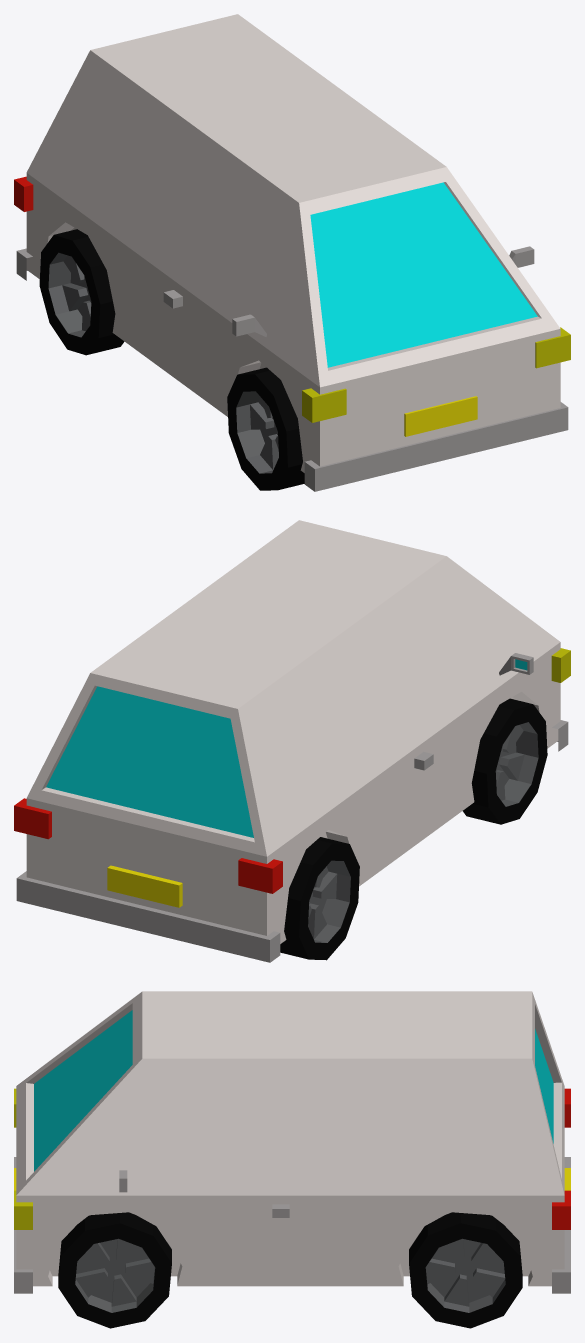
Rendered from Van.fbx.
The picture shows the model from 3 angles, top to bottom: view 1: azimuth 30°, elevation 25°; view 2: azimuth 150°, elevation 25°; view 3: azimuth 270°, elevation 25°; orthographic projection. The views are drawn at different scales.
Visible parts, largest first — view 1: Van, R_Back_Wheel, R_Front_Wheel; view 2: Van, R_Front_Wheel, R_Back_Wheel; view 3: Van, L_Front_Wheel, L_Back_Wheel.
Boxes of the visible parts, box(x1,y1,x2,y2) form: Van: box(14, 14, 570, 491); R_Back_Wheel: box(39, 229, 124, 355); R_Front_Wheel: box(227, 367, 304, 490); Van: box(14, 520, 570, 962); R_Front_Wheel: box(463, 698, 547, 824); R_Back_Wheel: box(280, 837, 359, 960); Van: box(14, 991, 570, 1293); L_Front_Wheel: box(58, 1212, 171, 1328); L_Back_Wheel: box(409, 1212, 522, 1328).
Size of the model in its own units: 3 by 2.52 by 5.21.
